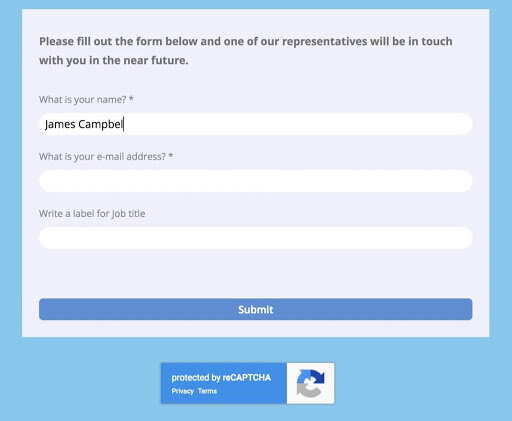_form_: (27, 75, 479, 328)
button: (37, 297, 474, 322)
field: (37, 111, 474, 139), (37, 225, 475, 252), (35, 168, 476, 194)
field_with_label: (32, 149, 477, 196), (35, 208, 476, 254), (34, 95, 476, 140)
